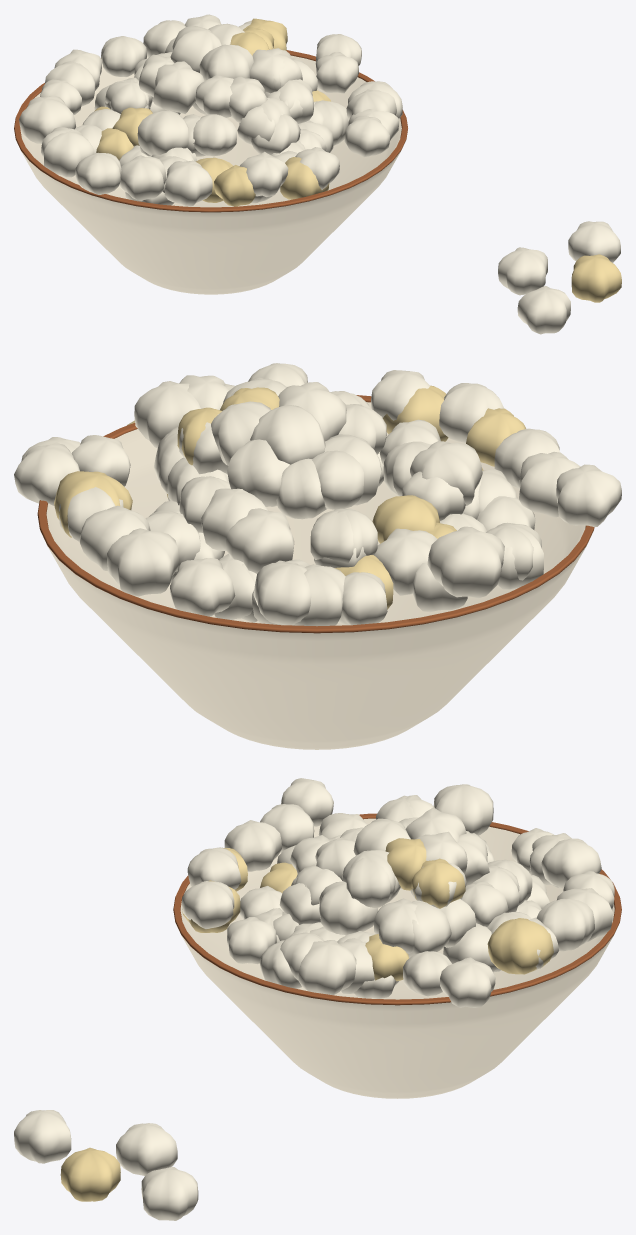
The model's file is room01-popcorn-bowl-v2.glb.
3 views of the same model, one above another, from view 1: azimuth 30°, elevation 25°; view 2: azimuth 150°, elevation 25°; view 3: azimuth 270°, elevation 25° (orthographic). The views are drawn at different scales.
Visible parts, largest first — view 1: popcorn, bowl, butter, rim; view 2: popcorn, bowl, butter, rim; view 3: popcorn, bowl, butter, rim.
Part boxes in pixels (x1,y1,x2,y2): popcorn: (19,14,620,334); bowl: (16,55,406,294); butter: (94,18,621,302); rim: (14,50,407,212); popcorn: (14,363,621,626); bowl: (40,402,593,749); butter: (54,385,526,609); rim: (37,395,594,633); popcorn: (14,778,614,1220); bowl: (176,818,618,1098); butter: (60,838,553,1201); rim: (173,813,621,1005).
Size of the model in its own units: 0.2792 by 0.123 by 0.2713.
